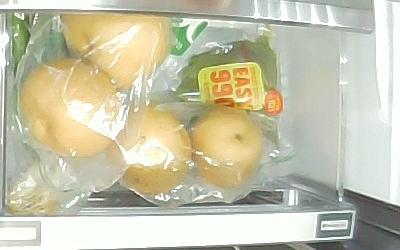pear_vinyl: (17, 58, 122, 157), (62, 14, 169, 88), (106, 106, 194, 194), (188, 107, 261, 187)
